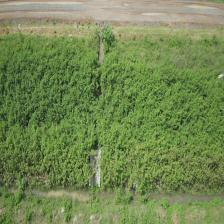vegetation: (103, 59, 224, 185), (0, 43, 91, 183)
